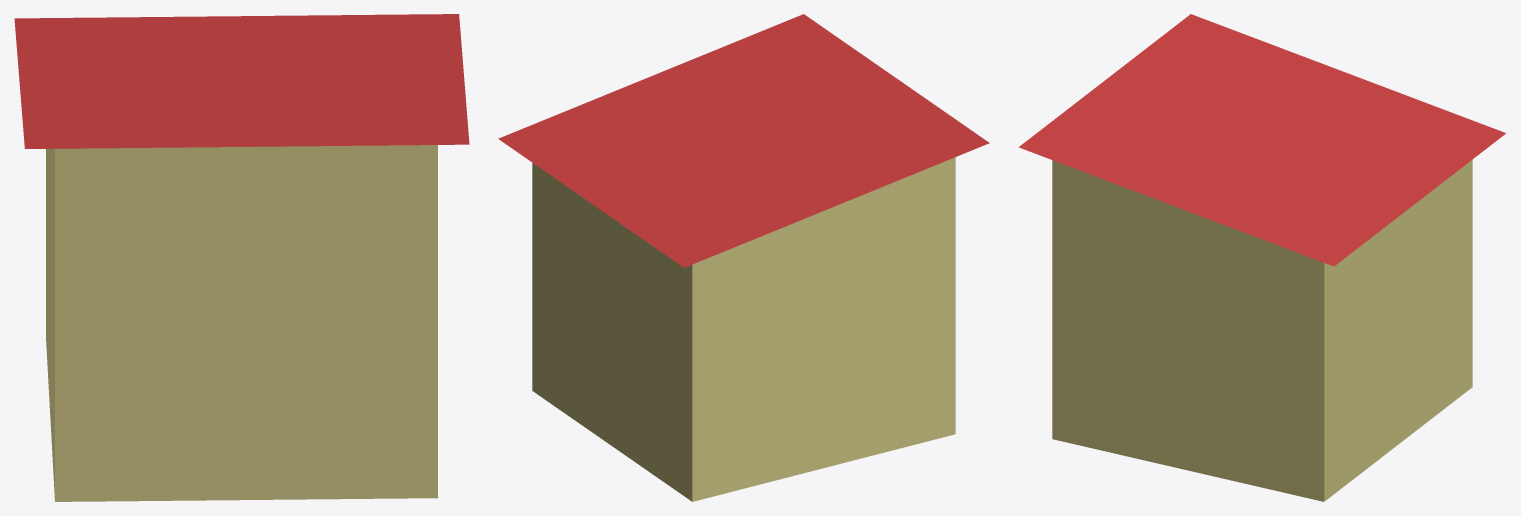
3 views of the same model, side by side, from view 1: azimuth 30°, elevation 25°; view 2: azimuth 150°, elevation 25°; view 3: azimuth 270°, elevation 25° (orthographic). The views are drawn at different scales.
Bounding box in the file's own units: 9.77 × 9.77 × 6.54.
